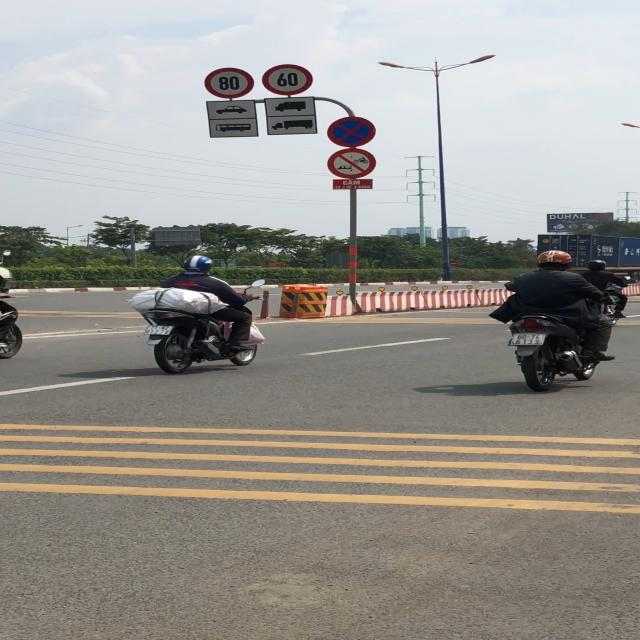Bien bao cam dung xe va do xe: (327, 115, 378, 147)
Bien bao toc do toi da cho phep: (259, 64, 317, 96), (202, 66, 255, 100)
